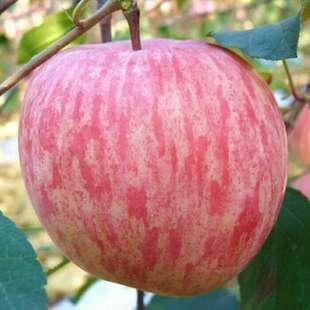apple: (16, 35, 289, 297)
